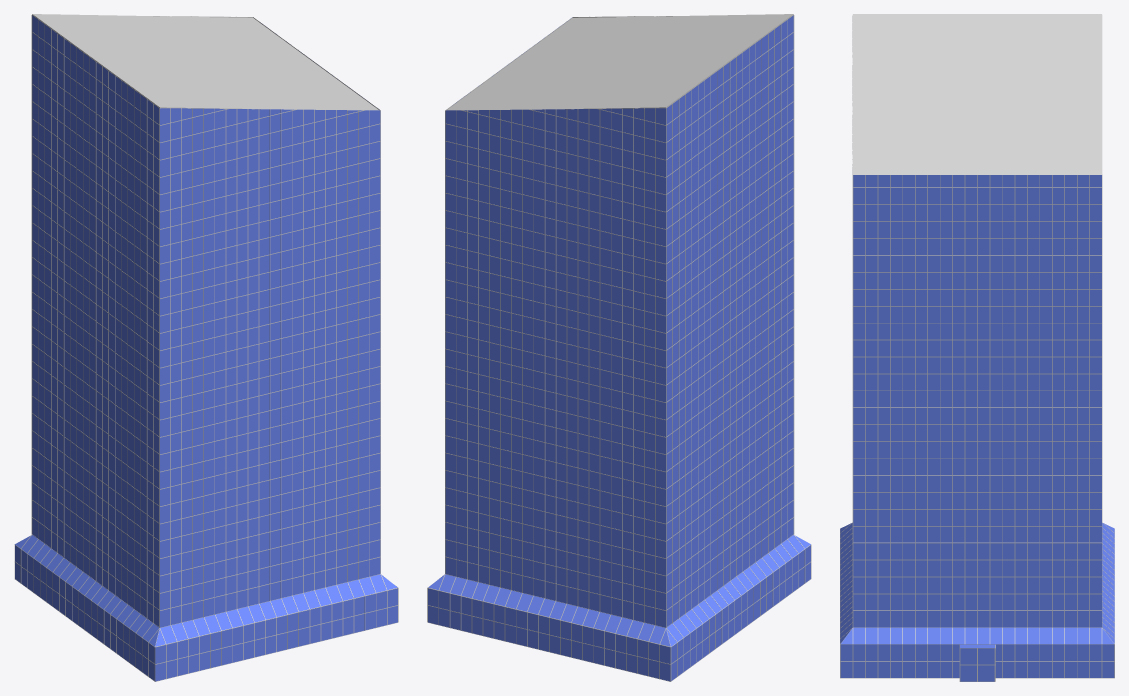
Rendered from skyscraper.fbx.
3 renders of one model, left to right at view 1: azimuth 30°, elevation 25°; view 2: azimuth 150°, elevation 25°; view 3: azimuth 270°, elevation 25°, orthographic. The views are drawn at different scales.
Visible parts, largest first — view 1: Skyscraper; view 2: Skyscraper; view 3: Skyscraper.
Part boxes in pixels (box(x1,y1,x2,y2)): Skyscraper: box(14, 14, 398, 681); Skyscraper: box(427, 14, 811, 681); Skyscraper: box(840, 14, 1114, 681).
Size of the model in its own units: 1138 by 2452 by 1103.
